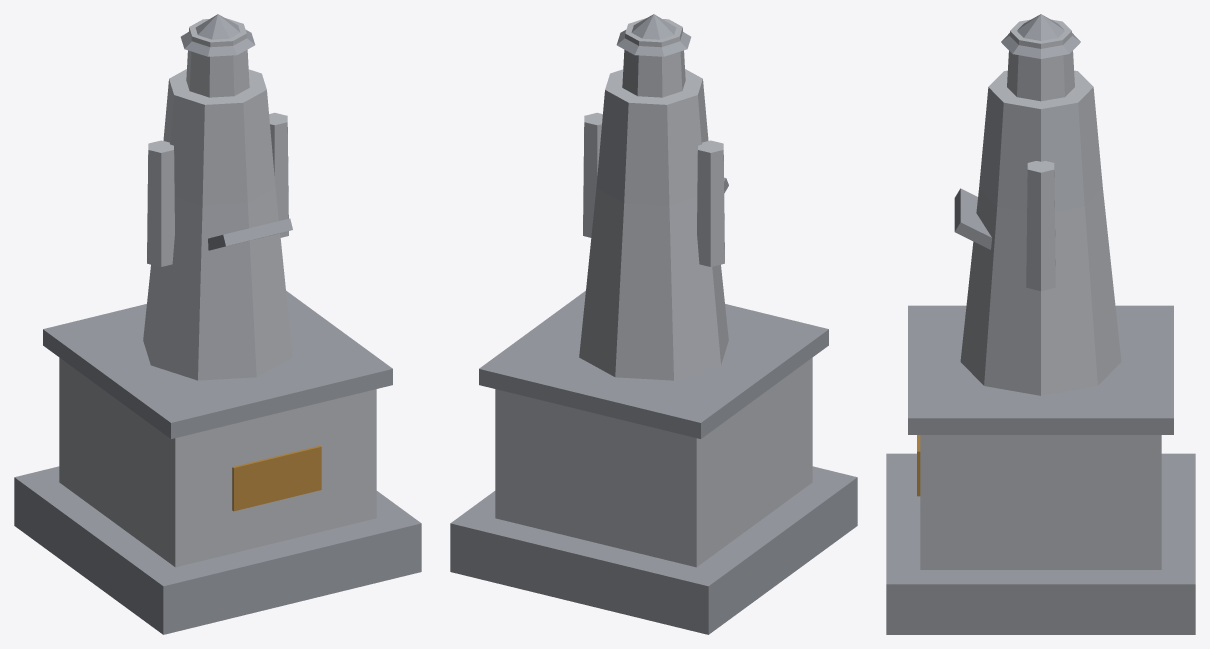
Rendered from a-statue.glb.
The picture shows the model from 3 angles, left to right: view 1: azimuth 30°, elevation 25°; view 2: azimuth 150°, elevation 25°; view 3: azimuth 270°, elevation 25°; orthographic projection. The views are drawn at different scales.
Parts seen in each view (by area): view 1: a-statue; view 2: a-statue; view 3: a-statue.
Part boxes in pixels (box(x1,y1,x2,y2)): a-statue: box(14, 14, 421, 634); a-statue: box(450, 14, 857, 634); a-statue: box(886, 14, 1195, 634).
Size of the model in its own units: 1 by 1.98 by 1.
